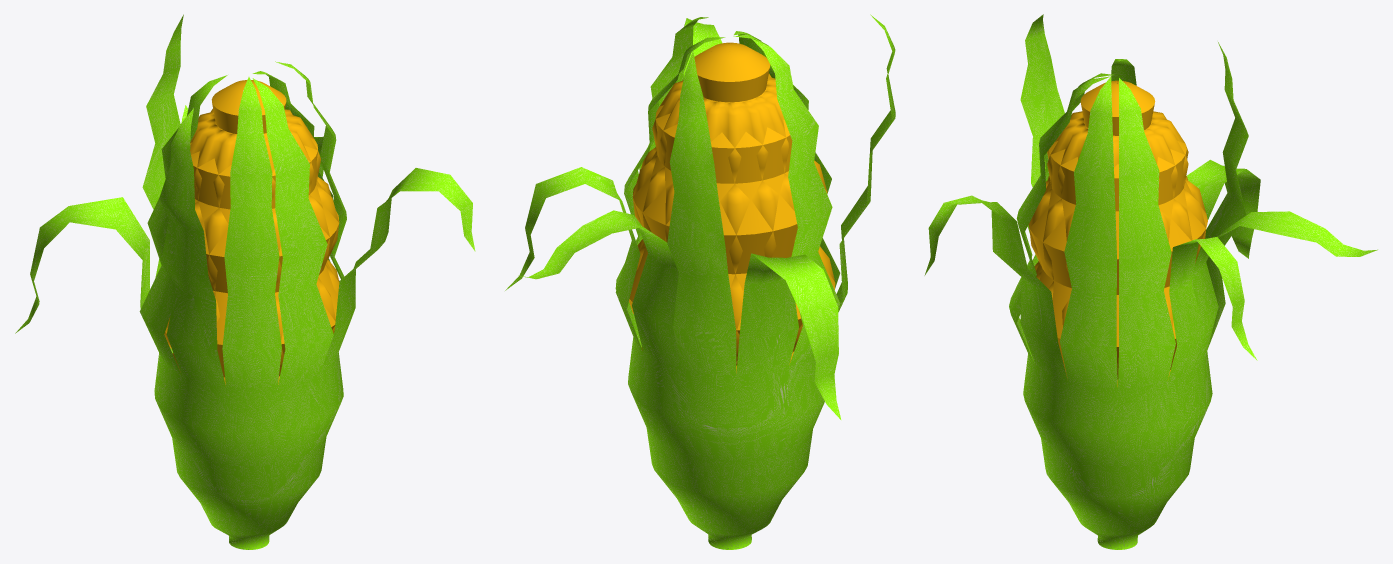
File: cob.fbx
3 views of the same model, side by side, from view 1: azimuth 30°, elevation 25°; view 2: azimuth 150°, elevation 25°; view 3: azimuth 270°, elevation 25° (orthographic). The views are drawn at different scales.
Visible parts, largest first — view 1: leafs outside, leafs inside, corn.001, corn; view 2: leafs outside, leafs inside, corn.001, corn; view 3: leafs outside, leafs inside, corn.001, corn.
Part boxes in pixels (left/top/right/bottom): leafs outside: left=15, top=14, right=475, bottom=549; leafs inside: left=21, top=18, right=474, bottom=549; corn.001: left=165, top=80, right=339, bottom=384; corn: left=164, top=109, right=339, bottom=366; leafs outside: left=505, top=14, right=895, bottom=549; leafs inside: left=510, top=17, right=895, bottom=549; corn.001: left=629, top=42, right=835, bottom=371; corn: left=629, top=73, right=835, bottom=373; leafs outside: left=924, top=14, right=1377, bottom=549; leafs inside: left=926, top=14, right=1373, bottom=549; corn.001: left=1028, top=80, right=1207, bottom=386; corn: left=1029, top=111, right=1206, bottom=327.
Bounding box in the file's own units: 72.75 × 112 × 93.05.
4 materials, 2 textured.
